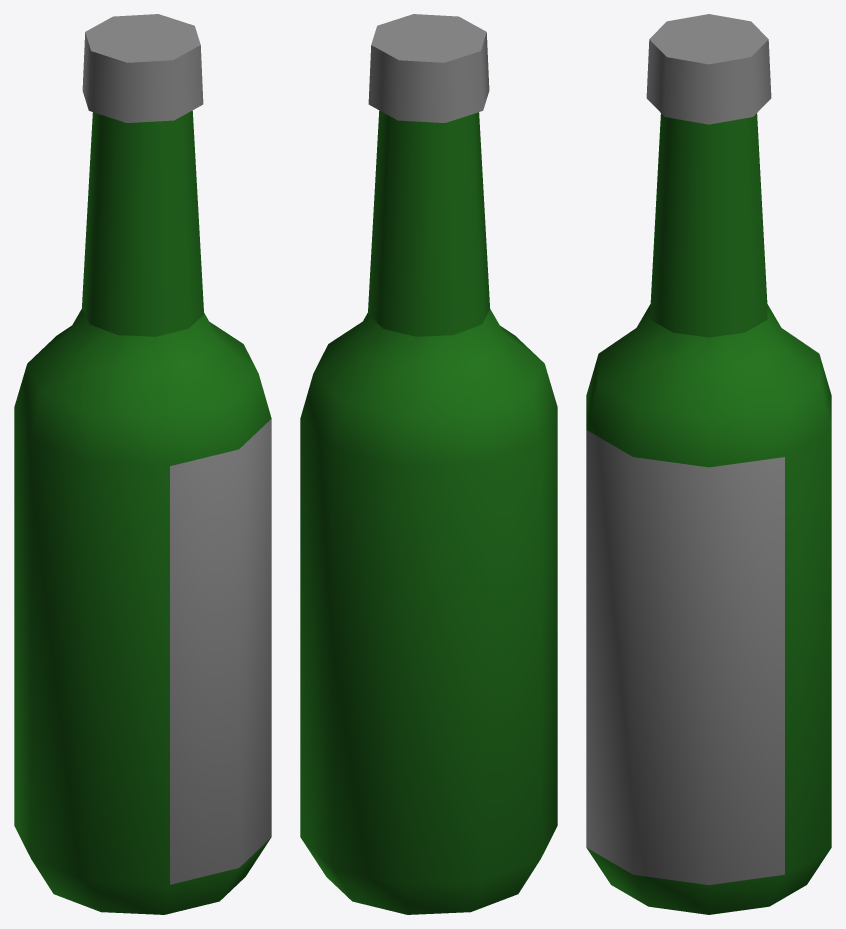
The model's file is bottle_beer_01.fbx.
The picture shows the model from 3 angles, left to right: view 1: azimuth 30°, elevation 25°; view 2: azimuth 150°, elevation 25°; view 3: azimuth 270°, elevation 25°; orthographic projection.
Visible parts, largest first — view 1: bottle_beer_01; view 2: bottle_beer_01; view 3: bottle_beer_01.
Part boxes in pixels (<box>): bottle_beer_01: <box>14,14,271,914</box>; bottle_beer_01: <box>300,14,557,914</box>; bottle_beer_01: <box>586,14,831,914</box>.
Bounding box in the file's own units: 19.92 × 70.86 × 18.95.
